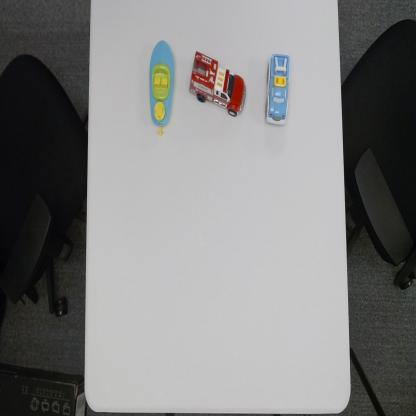Boat: (148, 38, 176, 138)
Car: (263, 50, 292, 130)
Firetruck: (188, 49, 247, 119)
